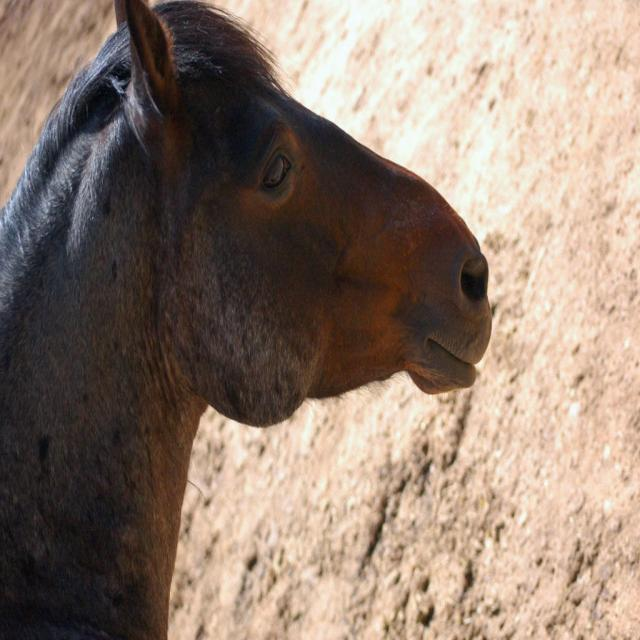Horse: (0, 0, 492, 639)
